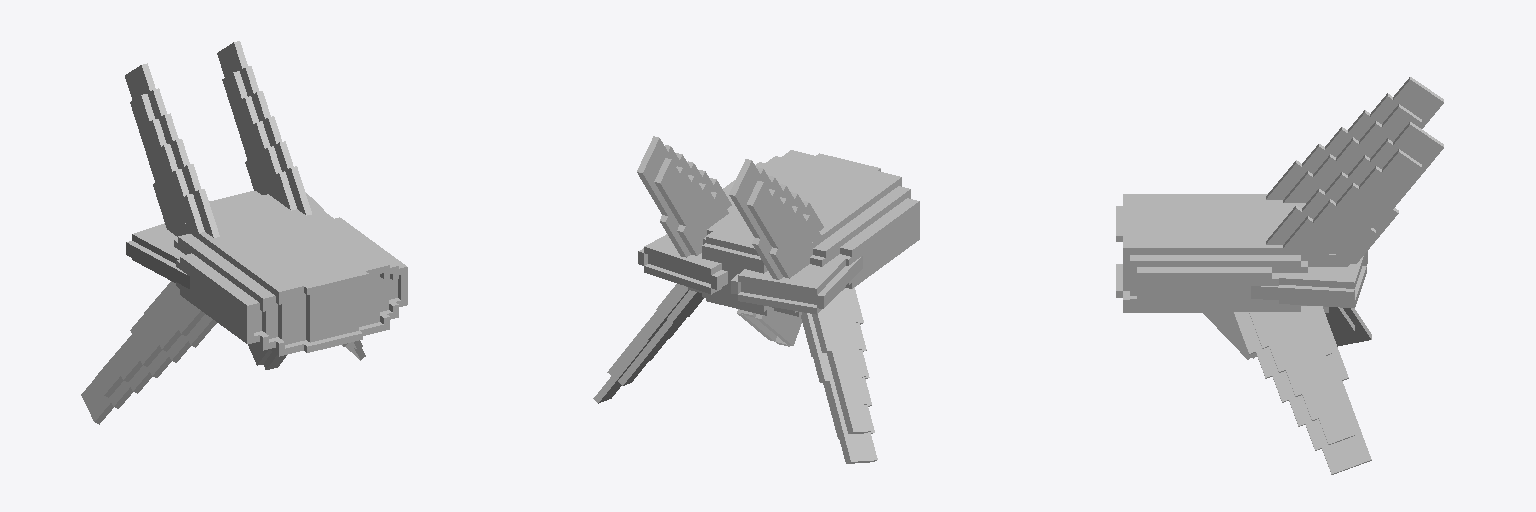
File: sprxd1_ver1.obj
The picture shows the model from 3 angles: view 1: azimuth 30°, elevation 25°; view 2: azimuth 150°, elevation 25°; view 3: azimuth 270°, elevation 25°; orthographic projection.
Visible parts, largest first — view 1: Body, Wing2, Wing3, Wing4, Visor, Thruster_Body.001; view 2: Body, Wing2, Wing4, Wing3, Thruster_Body.001, Wing1, Thruster_Body, Thruster_Body.002, Thruster__Inner.001, Thruster__Inner; view 3: Body, Wing1, Wing4, Wing3, Thruster_Body, Wing2, Thruster_Body.002.
Boxes of the visible parts, box(x1,y1,x2,y2) form: Body: box(172, 191, 407, 356); Wing2: box(81, 281, 216, 424); Wing3: box(125, 63, 219, 237); Wing4: box(217, 41, 311, 215); Visor: box(254, 274, 397, 344); Thruster_Body.001: box(126, 223, 189, 288); Body: box(686, 150, 919, 316); Wing2: box(801, 287, 877, 463); Wing4: box(637, 136, 731, 257); Wing3: box(729, 159, 823, 279); Thruster_Body.001: box(731, 254, 862, 314); Wing1: box(593, 284, 703, 403); Thruster_Body: box(638, 234, 727, 294); Thruster_Body.002: box(737, 309, 801, 346); Thruster__Inner.001: box(741, 282, 816, 304); Thruster__Inner: box(648, 255, 710, 283); Body: box(1116, 194, 1335, 312); Wing1: box(1233, 306, 1371, 474); Wing4: box(1266, 122, 1443, 266); Wing3: box(1266, 77, 1443, 202); Thruster_Body: box(1251, 251, 1367, 307); Wing2: box(1325, 307, 1371, 346); Thruster_Body.002: box(1203, 313, 1256, 359).
Size of the model in its own units: 4.41 by 4.83 by 4.62.